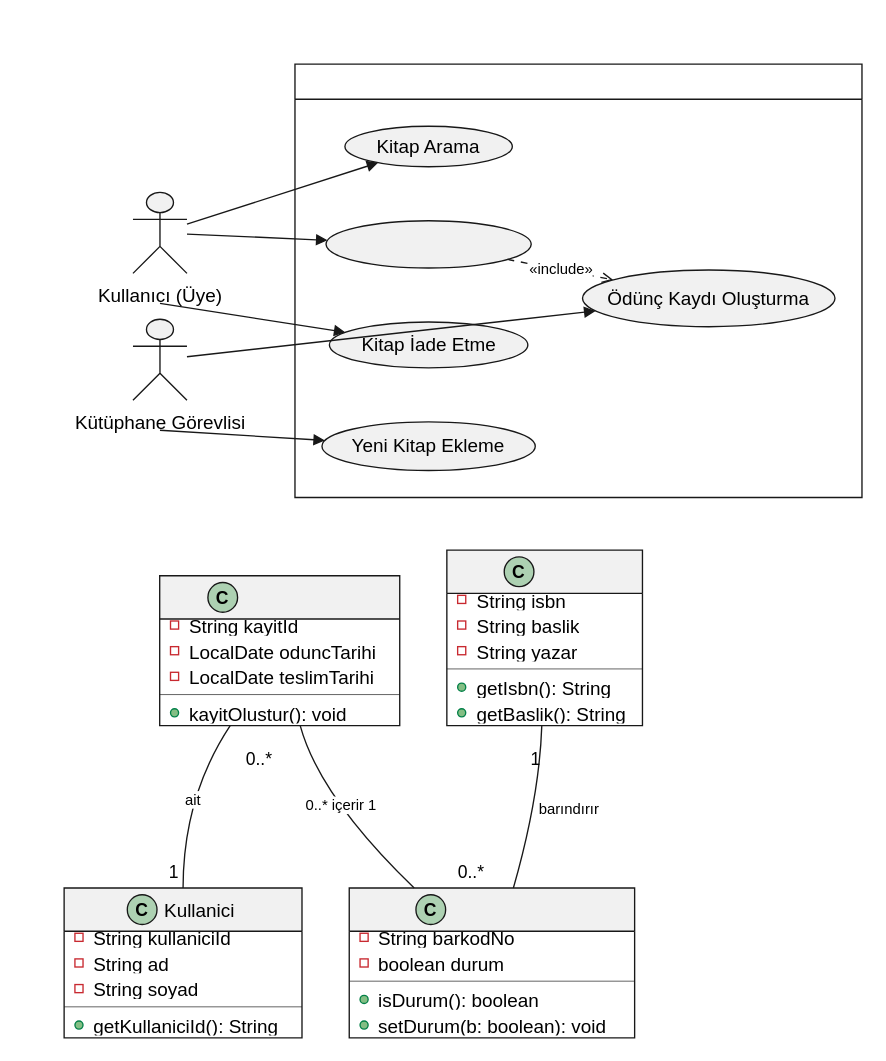
Some shapes in this 886 by 1061 pixel diagram are drawn without their labels. The box of each missing label's shape, as (x1, y1, x2, y2) in pixels:
Kitap: (446, 549, 642, 726)
Kitap Ödünç Alma: (325, 219, 531, 268)
KitapKopyasi: (348, 887, 635, 1038)
OduncKaydi: (158, 574, 400, 726)
OKYS (Otomasyon Kayıt Sistemi): (294, 63, 862, 497)
